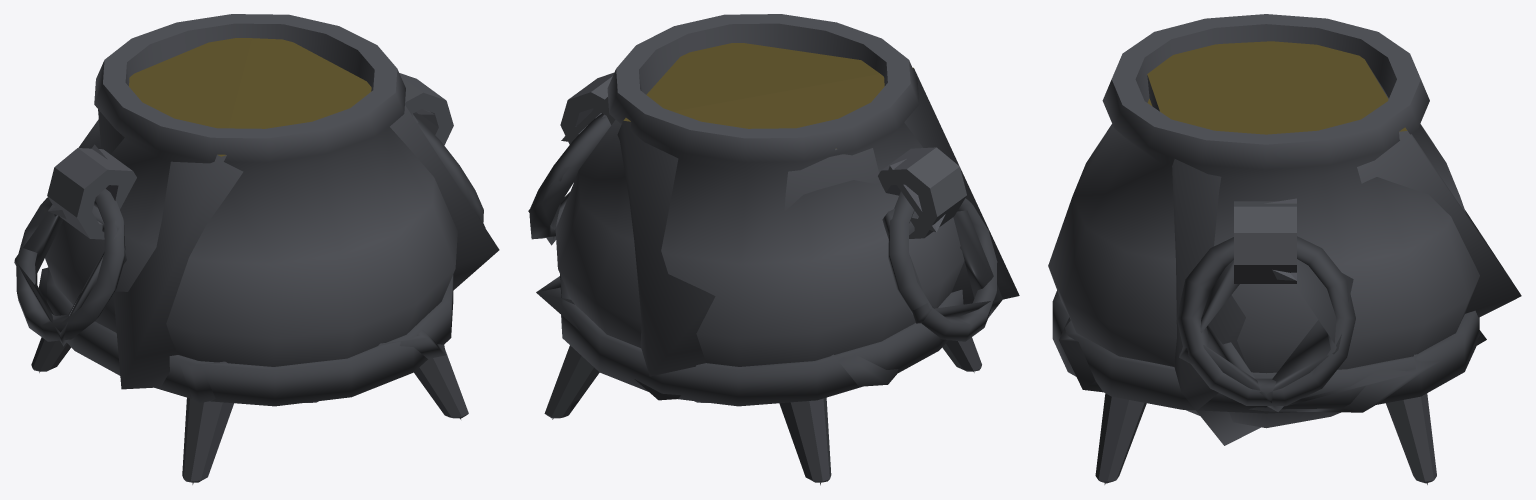
Rendered from Cauldron.fbx.
The picture shows the model from 3 angles, left to right: view 1: azimuth 30°, elevation 25°; view 2: azimuth 150°, elevation 25°; view 3: azimuth 270°, elevation 25°; orthographic projection. The views are drawn at different scales.
Visible parts, largest first — view 1: High_Cauldron, Low_Cauldron; view 2: High_Cauldron, Low_Cauldron; view 3: High_Cauldron, Low_Cauldron.
Part boxes in pixels (box(x1,y1,x2,y2)): High_Cauldron: box(16, 14, 483, 482); Low_Cauldron: box(14, 38, 499, 484); High_Cauldron: box(529, 14, 997, 482); Low_Cauldron: box(528, 43, 1019, 485); High_Cauldron: box(1048, 14, 1479, 483); Low_Cauldron: box(1059, 41, 1521, 484).
Size of the model in its own units: 36.19 by 25.51 by 32.44.
